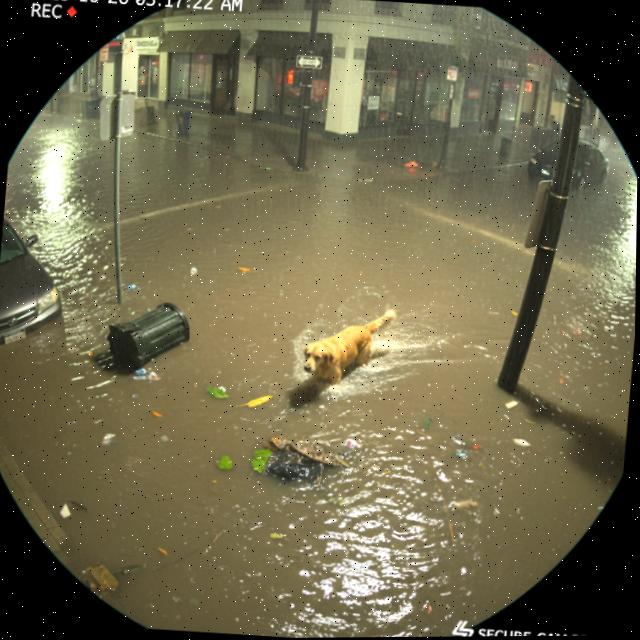dog: (294, 302, 401, 399)
